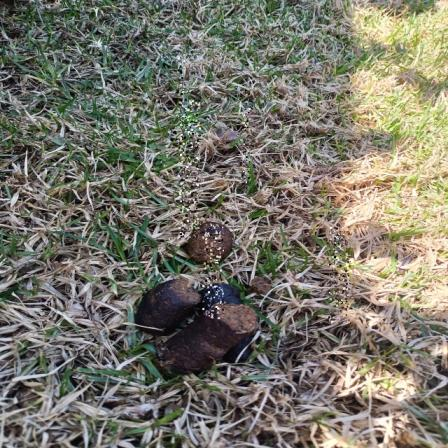dog-poop: (134, 214, 268, 372)
